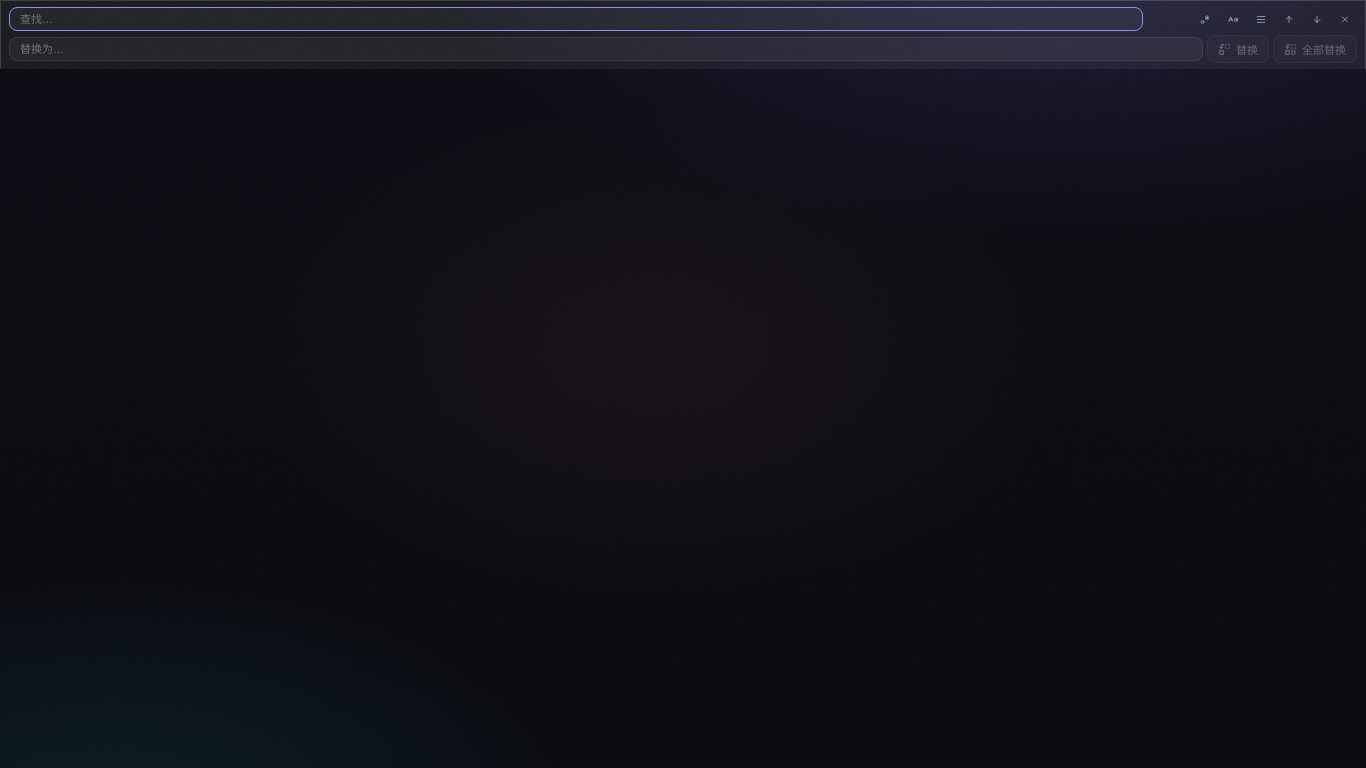
FindReplaceBar — 查找与替换 › 下一个匹配切换计数
Type "foo" into the field named "查找内容" at (576, 19), box [9, 7, 1143, 31]
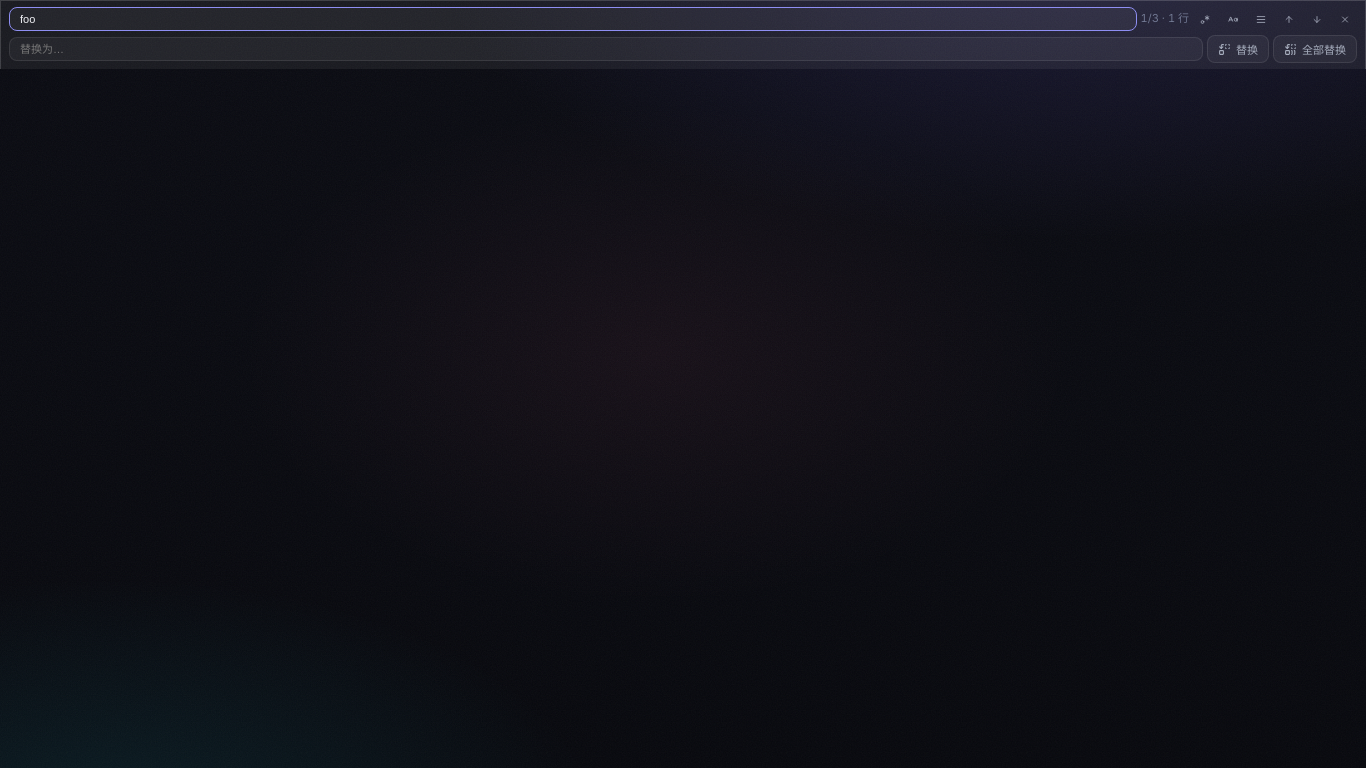
Expected: the text "1/3 · 1 行" is shown, [1141, 10, 1189, 28]
Click the button named "下一个匹配" at (1317, 19), box [1305, 7, 1329, 31]
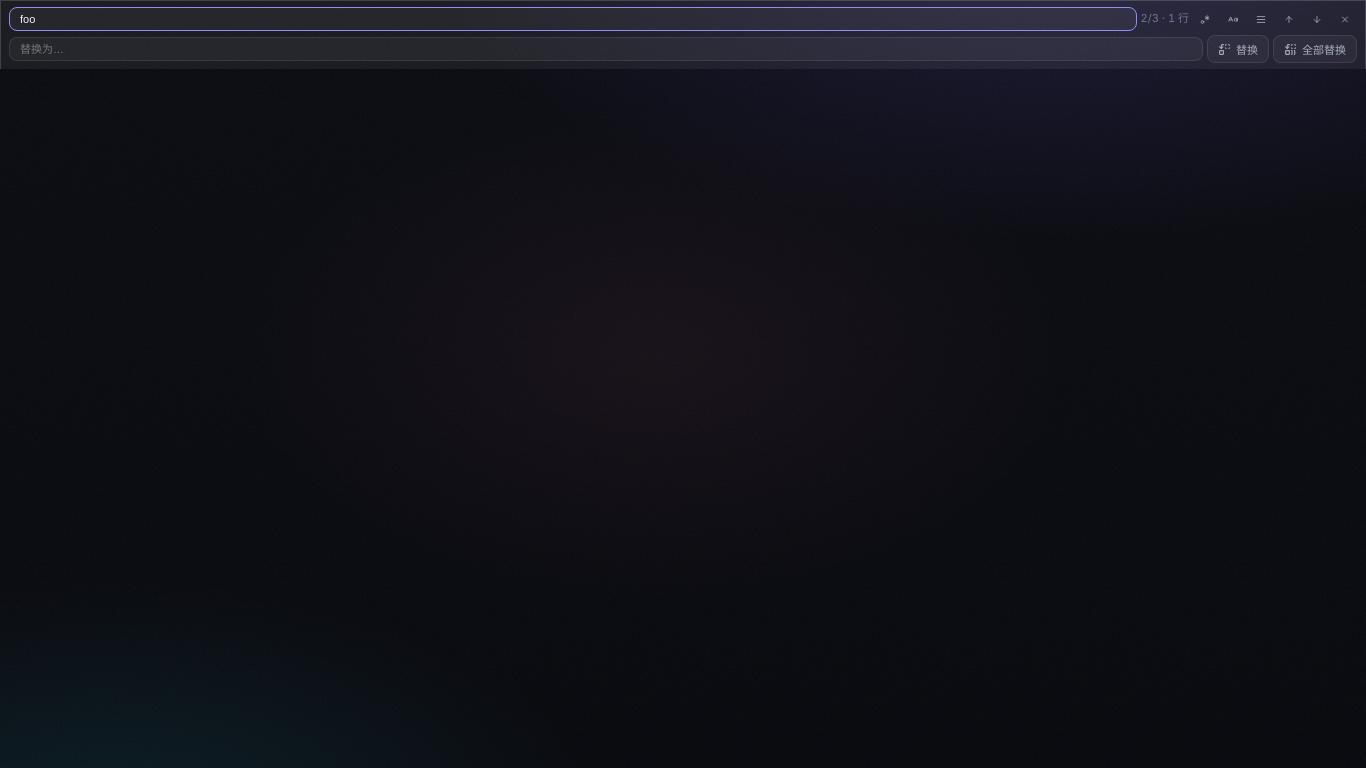
Expected: the text "2/3 · 1 行" is shown, [1141, 10, 1189, 28]
Click the button named "下一个匹配" at (1317, 19), box [1305, 7, 1329, 31]
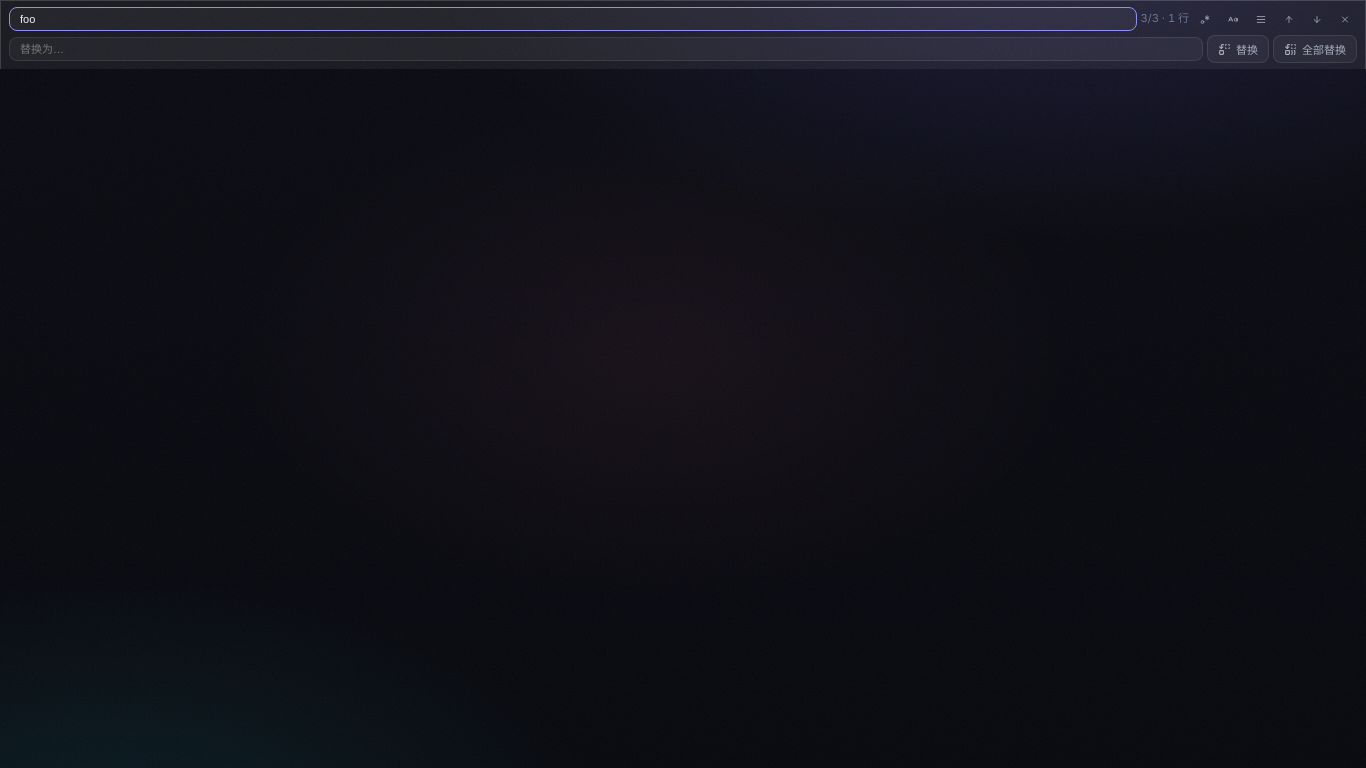
Expected: the text "3/3 · 1 行" is shown, [1141, 10, 1189, 28]
